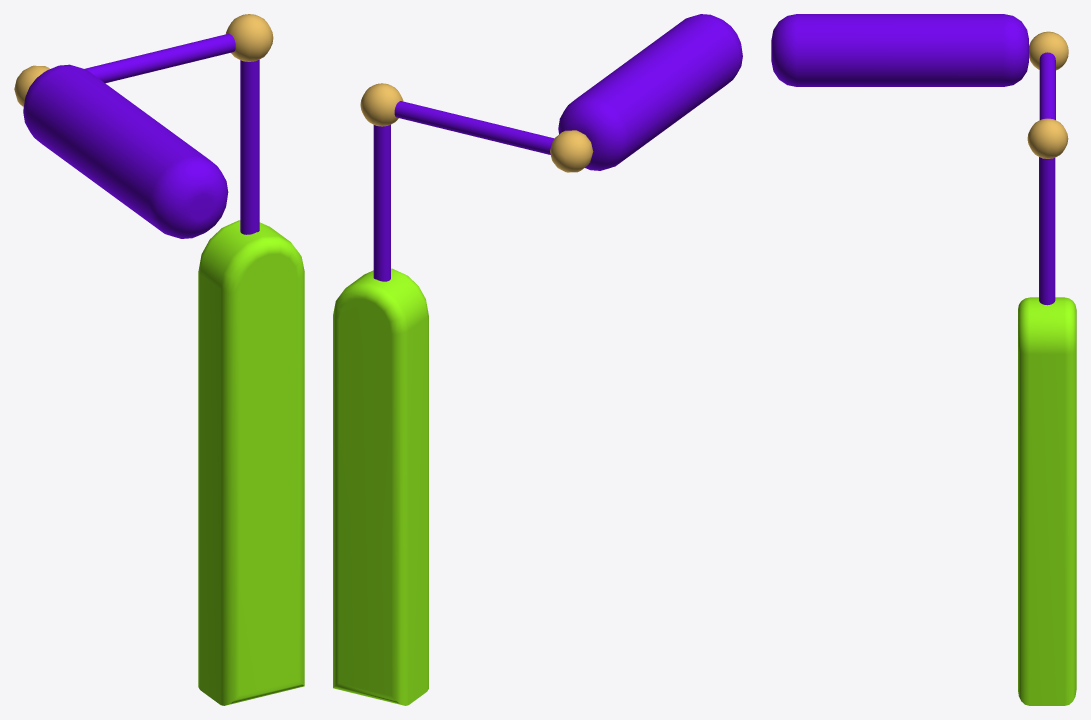
File: Obstacle7.fbx
3 renders of one model, left to right at view 1: azimuth 30°, elevation 25°; view 2: azimuth 150°, elevation 25°; view 3: azimuth 270°, elevation 25°, orthographic. The views are drawn at different scales.
Parts seen in each view (by area): view 1: Body, Pillow, Arm; view 2: Body, Pillow, Arm; view 3: Body, Pillow, Arm.
Boxes of the visible parts, x1,y1,x2,y2 form: Body: (198,220,304,705); Pillow: (14,64,228,238); Arm: (85,14,273,234); Body: (333,268,428,705); Pillow: (550,14,742,172); Arm: (360,83,554,281); Body: (1018,297,1076,705); Pillow: (771,14,1068,86); Arm: (1027,52,1068,305).
Size of the model in its own units: 307 by 695 by 329.
